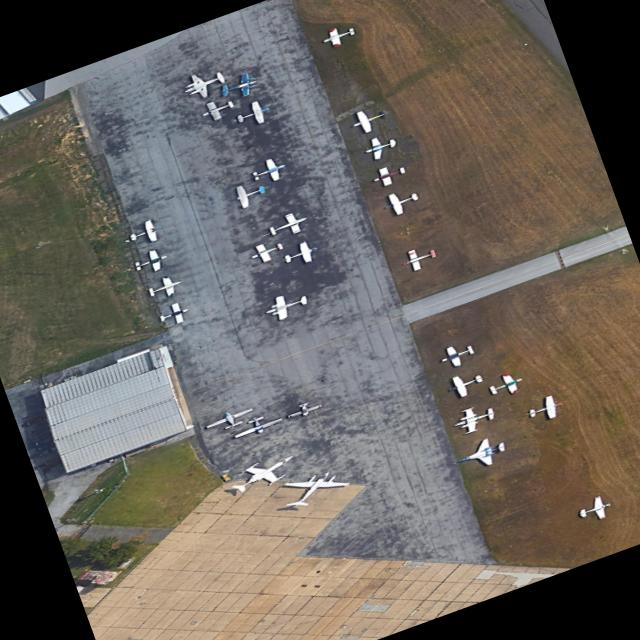plane: (222, 446, 309, 497), (266, 470, 361, 506), (451, 431, 508, 476), (177, 64, 228, 103), (229, 406, 284, 441), (203, 402, 257, 435), (263, 286, 309, 324), (451, 400, 496, 438), (266, 207, 312, 241), (444, 366, 490, 400), (348, 102, 391, 136), (436, 337, 479, 371), (485, 367, 528, 400), (125, 215, 166, 249), (380, 185, 422, 218), (249, 153, 289, 187), (397, 241, 438, 274), (232, 97, 273, 129), (222, 68, 259, 103), (525, 391, 563, 425), (245, 236, 288, 266), (281, 237, 321, 269), (145, 270, 184, 302), (133, 244, 170, 277), (576, 492, 614, 524), (363, 129, 399, 162), (198, 94, 238, 123), (232, 177, 268, 209), (370, 160, 408, 189), (320, 20, 356, 50), (157, 298, 193, 327), (285, 397, 322, 420)
